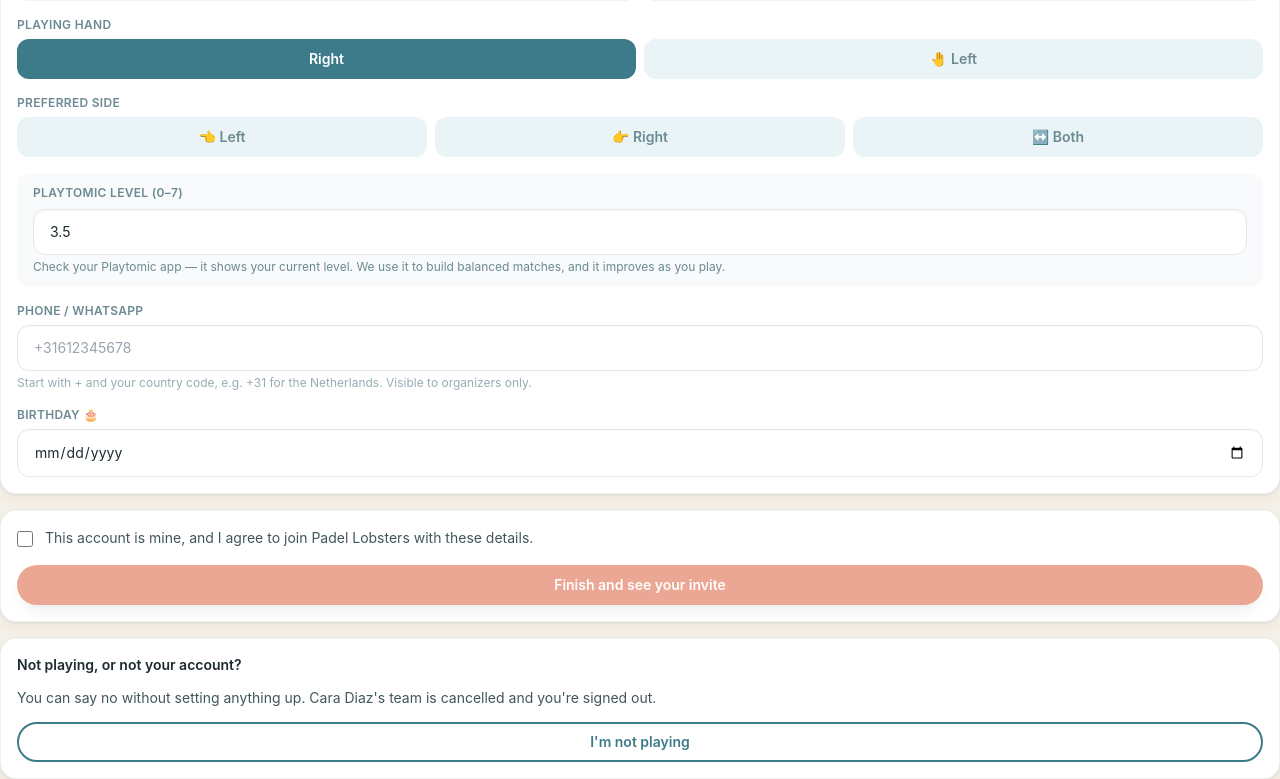
it: finish your account › needs the acknowledgement before it can be submitted
(page scrolled)
Expected: the button "Finish and see your invite" is disabled, x1=17 y1=565 x2=1263 y2=605
What coordinates should you click on to do the following:
click the checkbox
I would click on:
 (25, 538)
Its box is x1=17 y1=530 x2=33 y2=546.
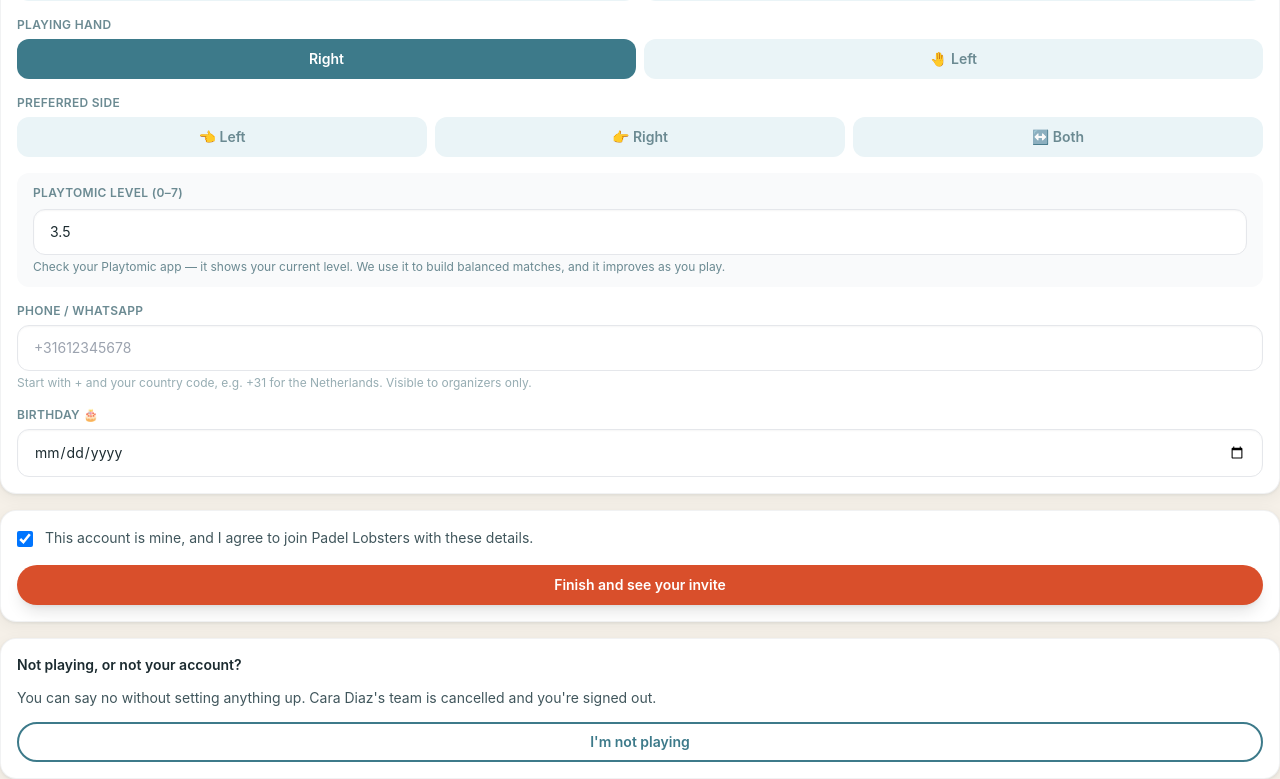
Expected: the button "Finish and see your invite" is enabled, x1=17 y1=565 x2=1263 y2=605
